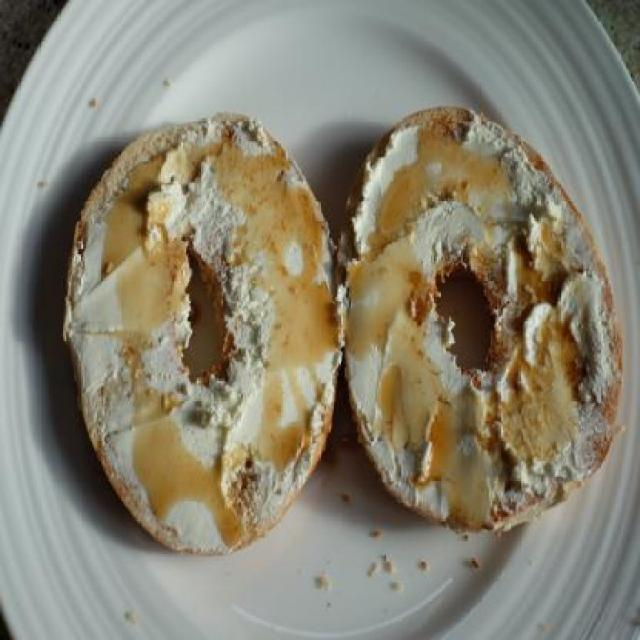Bagel: (337, 102, 625, 536), (61, 112, 340, 556)
